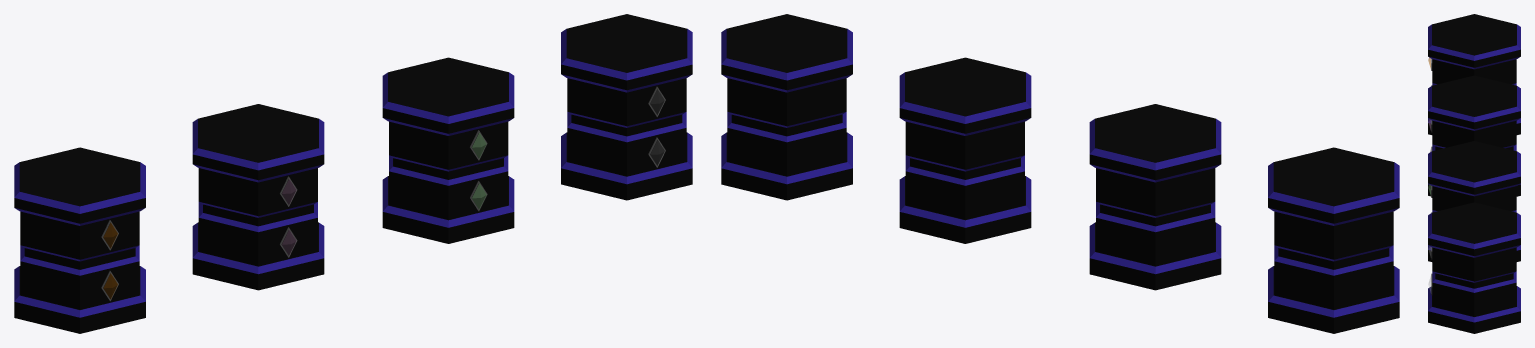
Rendered from pedestals.fbx.
3 renders of one model, left to right at view 1: azimuth 30°, elevation 25°; view 2: azimuth 150°, elevation 25°; view 3: azimuth 270°, elevation 25°, orthographic. The views are drawn at different scales.
Parts seen in each view (by area): view 1: pCone15, pCone14, pCylinder9, pCylinder10; view 2: pCone15, pCone14, pCylinder9, pCylinder10; view 3: pCylinder10, pCone14, pCylinder9, pCone15.
Part boxes in pixels (<box>): pCone15: <box>382,57,514,243</box>; pCone14: <box>192,104,324,290</box>; pCylinder9: <box>14,147,145,333</box>; pCylinder10: <box>561,14,692,200</box>; pCone15: <box>899,57,1031,243</box>; pCone14: <box>1089,104,1221,290</box>; pCylinder9: <box>1268,147,1399,333</box>; pCylinder10: <box>721,14,852,200</box>; pCylinder10: <box>1428,202,1520,333</box>; pCone14: <box>1428,75,1520,196</box>; pCylinder9: <box>1428,14,1520,134</box>; pCone15: <box>1428,141,1520,261</box>.
Size of the model in its own units: 11.37 by 2 by 1.91.
